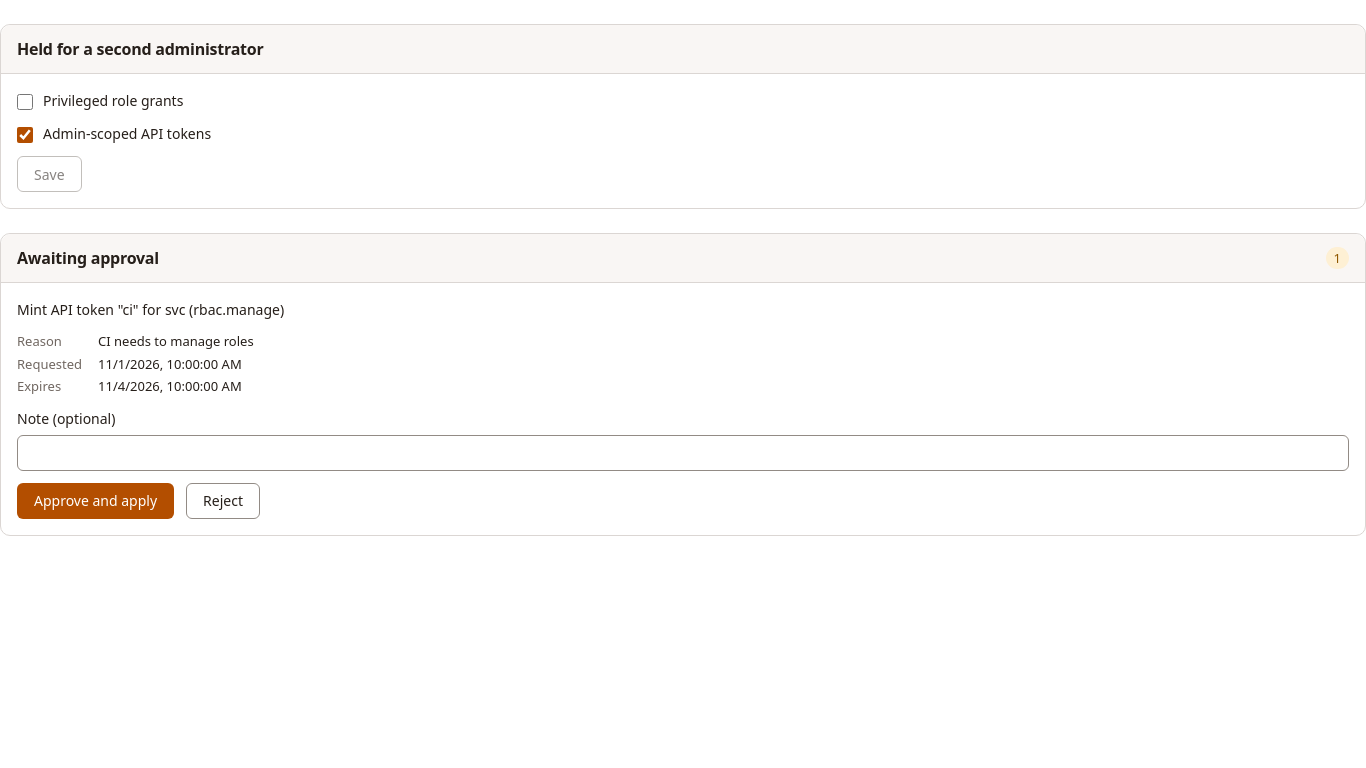
Test: ChangeControlTab › shows the server refusal in its own words
Click the button "Approve and apply" at {"x": 96, "y": 501}, box [17,483,174,519]
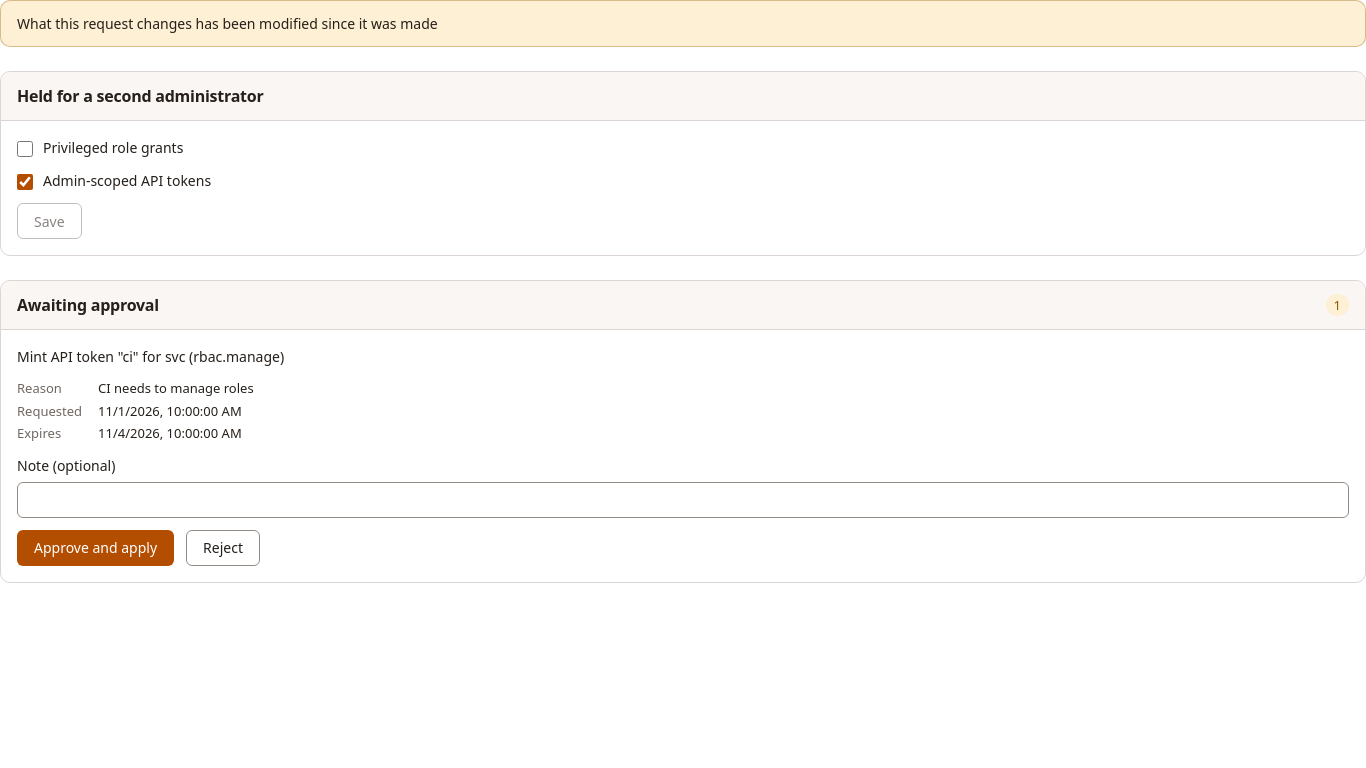
Expected: the text "has been modified since it was made" is shown, [17,14,438,33]
